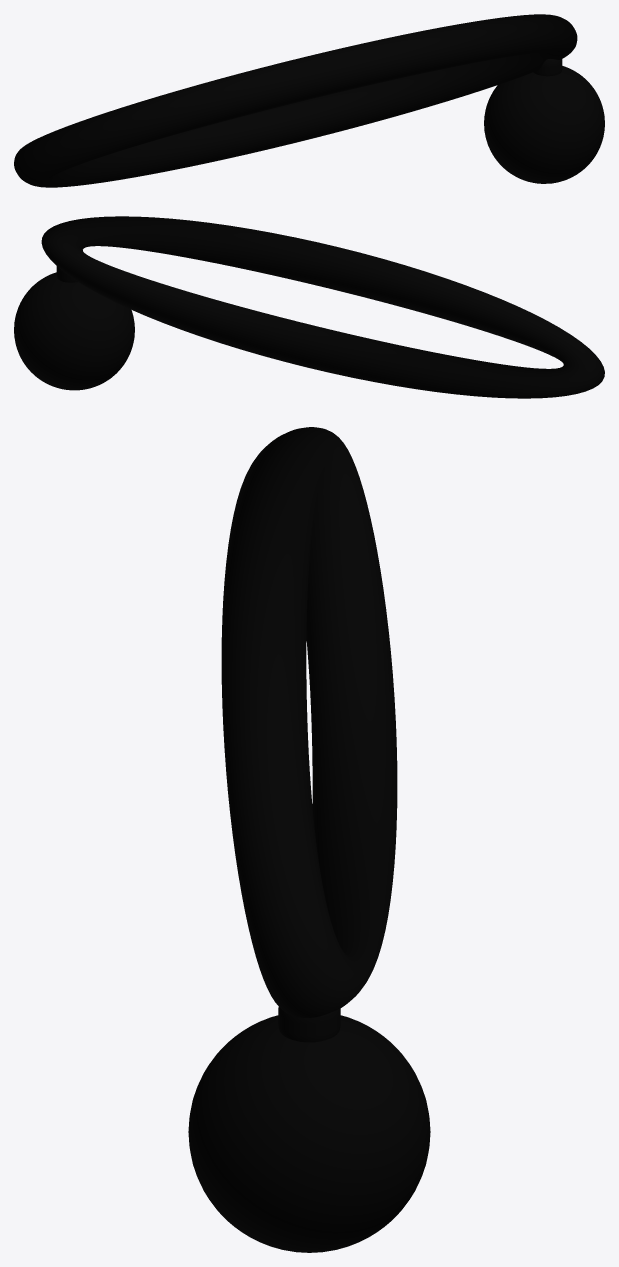
Rendered from zcollar-allblk-tag-3d.glb.
3 renders of one model, top to bottom at view 1: azimuth 30°, elevation 25°; view 2: azimuth 150°, elevation 25°; view 3: azimuth 270°, elevation 25°, orthographic. The views are drawn at different scales.
Parts seen in each view (by area): view 1: mesh_id38, mesh_id64, mesh_id72; view 2: mesh_id38, mesh_id64; view 3: mesh_id38, mesh_id64, mesh_id72.
Boxes of the visible parts, box(x1,y1,x2,y2) form: mesh_id38: box(14, 14, 577, 187); mesh_id64: box(484, 66, 604, 183); mesh_id72: box(533, 59, 562, 76); mesh_id38: box(41, 216, 604, 398); mesh_id64: box(14, 272, 134, 390); mesh_id38: box(221, 427, 397, 1017); mesh_id64: box(188, 1015, 430, 1252); mesh_id72: box(278, 1007, 340, 1042).
Size of the model in its own units: 0.3325 by 0.1031 by 0.06.
3 materials, 3 textured.
